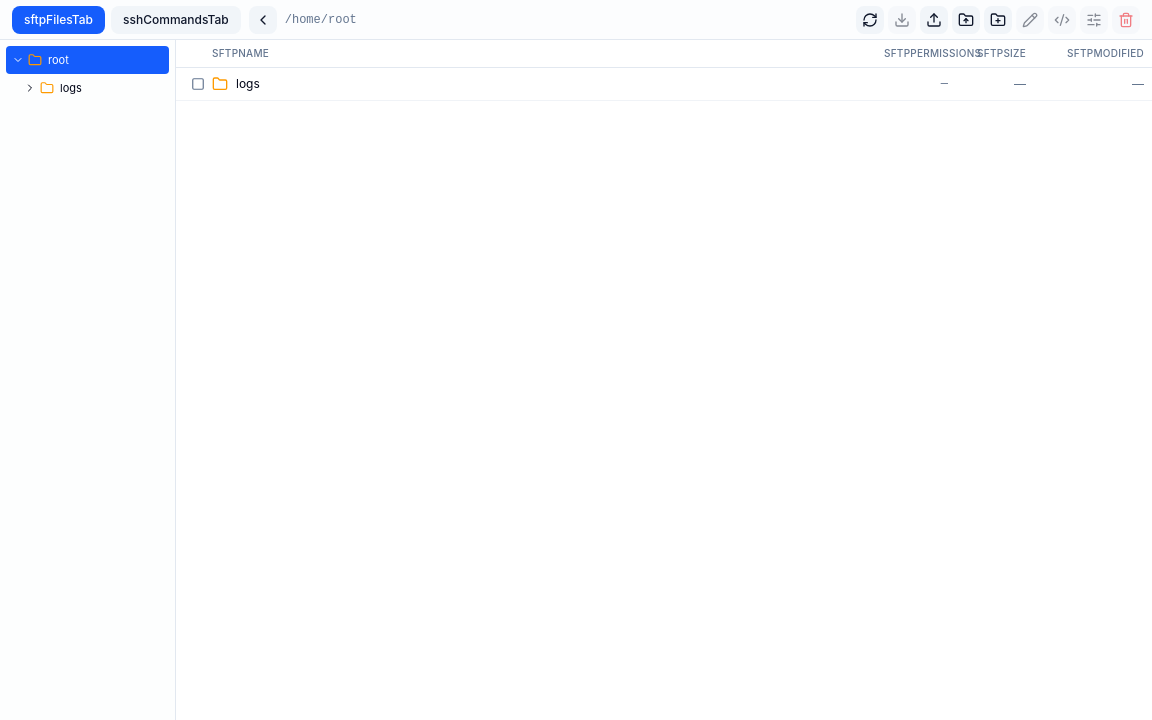
Test: SFTP panel › refreshes the upload destination without navigating back after the user browses away
This screenshot has width=1152, height=720.
Expected: the button "logs — — —" is shown, [212,68,1144,100]
Step 1. Click the button named "sftpUploadFolder" → coordinates (966, 20), box [952,6,980,34]
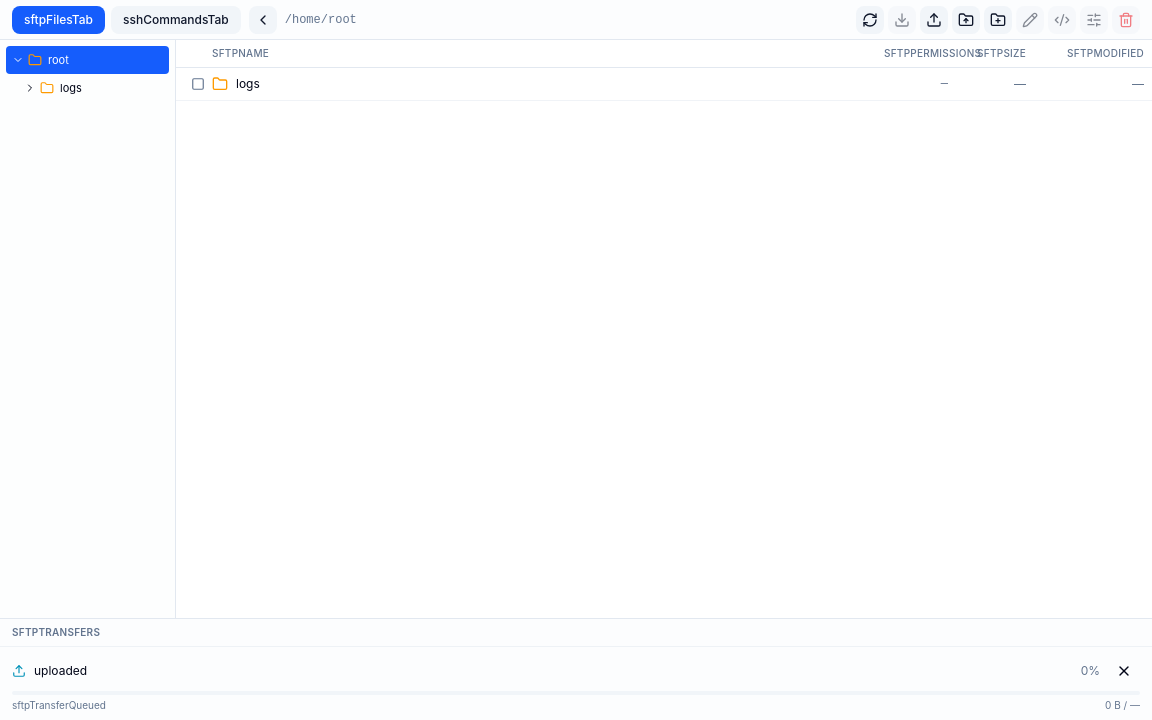
Step 2. Click the button "logs" → coordinates (102, 88), box [40,76,165,100]
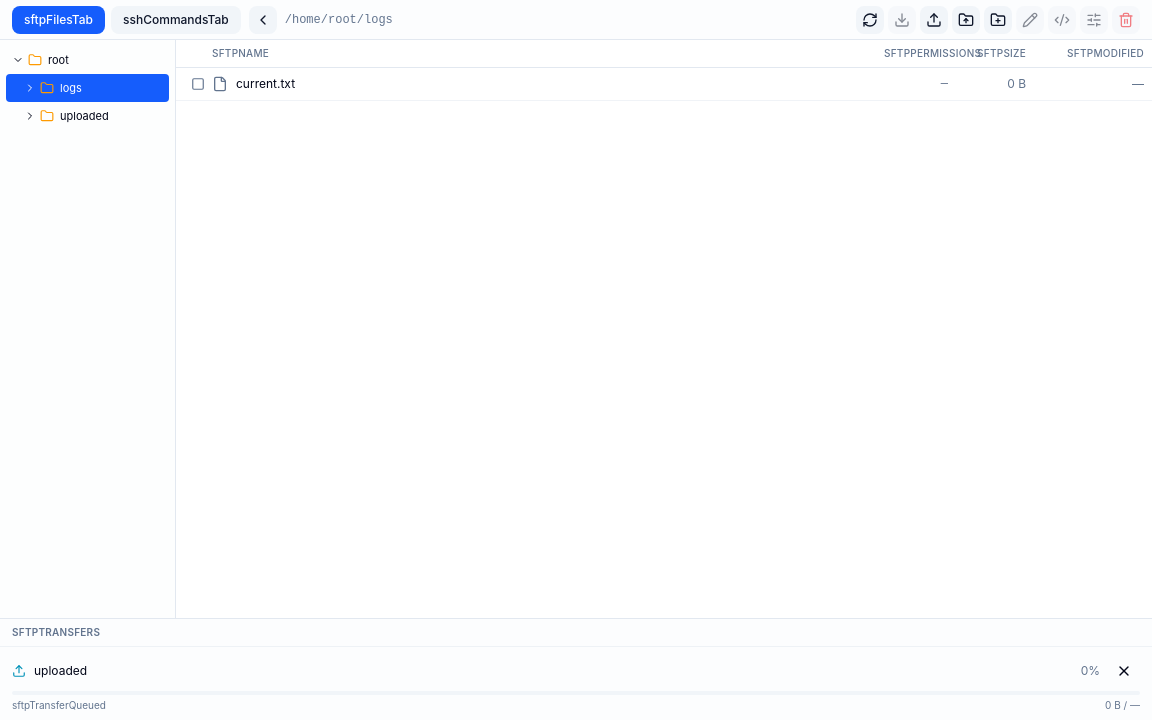
Expected: the text "uploaded" below "sftpName" is shown, [60,109,109,123]
Expected: the text "/home/root/logs" is shown, [285,12,393,26]
Expected: the button "current.txt — 0 B —" is shown, [212,68,1144,100]
